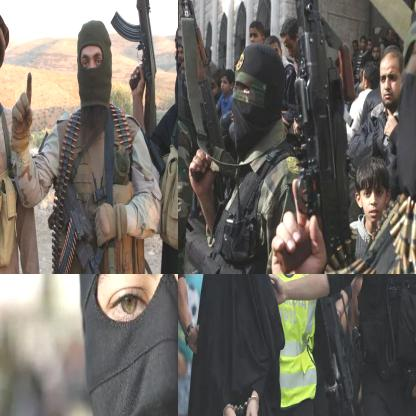rifle: (275, 0, 361, 273), (178, 0, 235, 198), (50, 171, 120, 273), (111, 0, 158, 93)
